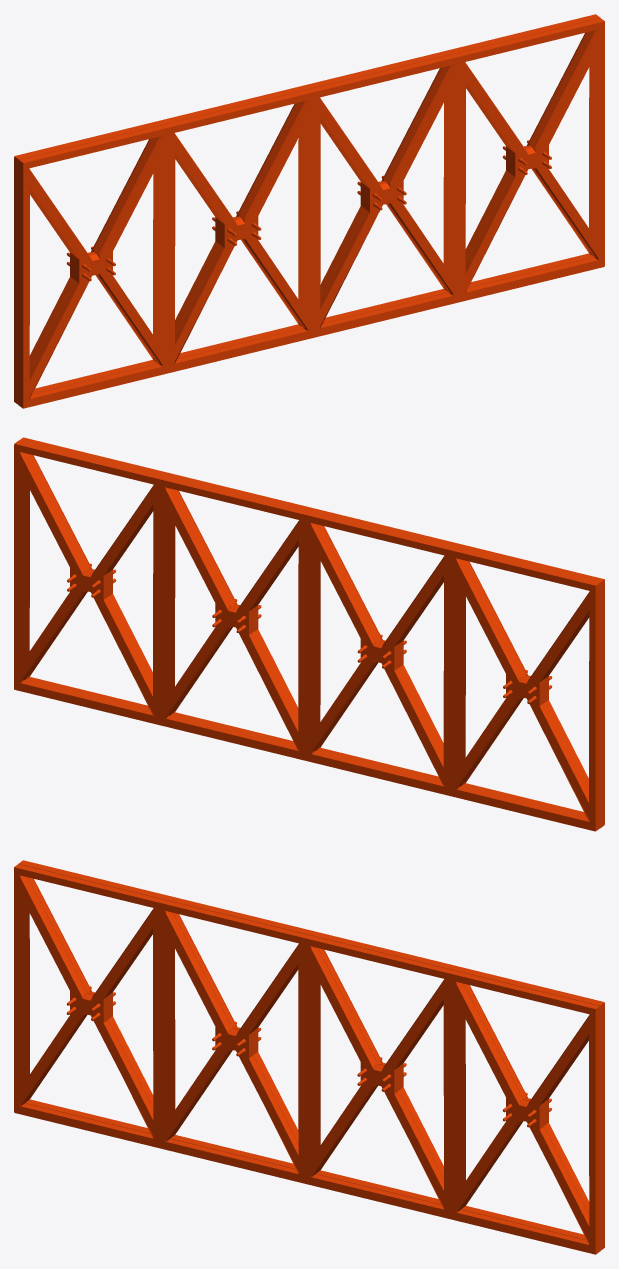
The model's file is 0005_factory_steal.glb.
The picture shows the model from 3 angles, top to bottom: view 1: azimuth 30°, elevation 25°; view 2: azimuth 150°, elevation 25°; view 3: azimuth 330°, elevation 25°; orthographic projection.
Parts seen in each view (by area): view 1: 平面.013; view 2: 平面.013; view 3: 平面.013.
Part boxes in pixels (<box>): 平面.013: <box>14,14,604,408</box>; 平面.013: <box>14,437,604,831</box>; 平面.013: <box>14,860,604,1254</box>.
Size of the model in its own units: 48.71 by 19.69 by 3.33.
